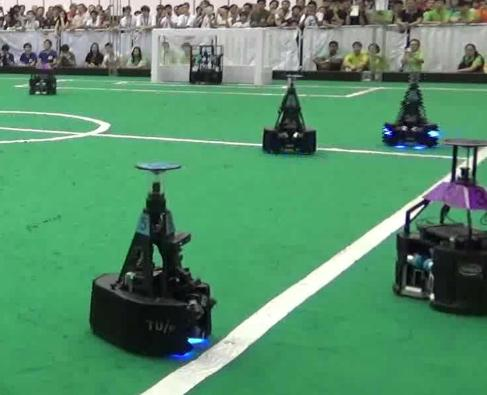robot: (86, 156, 222, 361), (391, 132, 486, 322), (379, 64, 443, 152), (260, 71, 320, 158)
